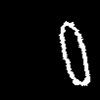chain: (59, 22, 89, 85)
